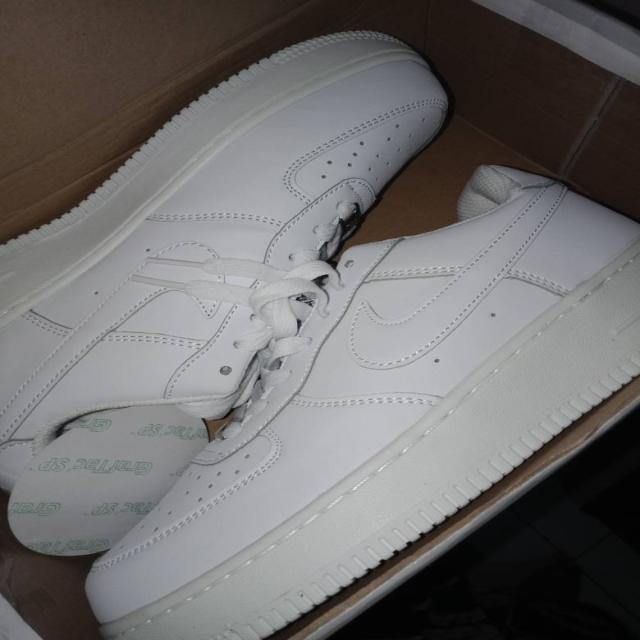nike fake air force: (82, 151, 640, 640), (0, 39, 445, 482)
